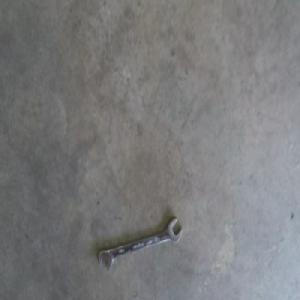Wrench: (99, 218, 182, 275)
